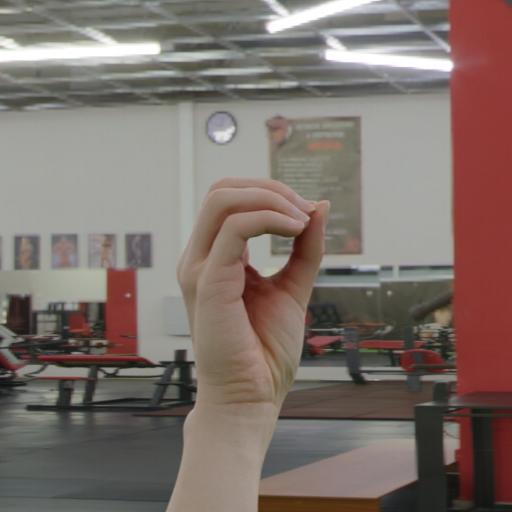O: (158, 166, 342, 428)
